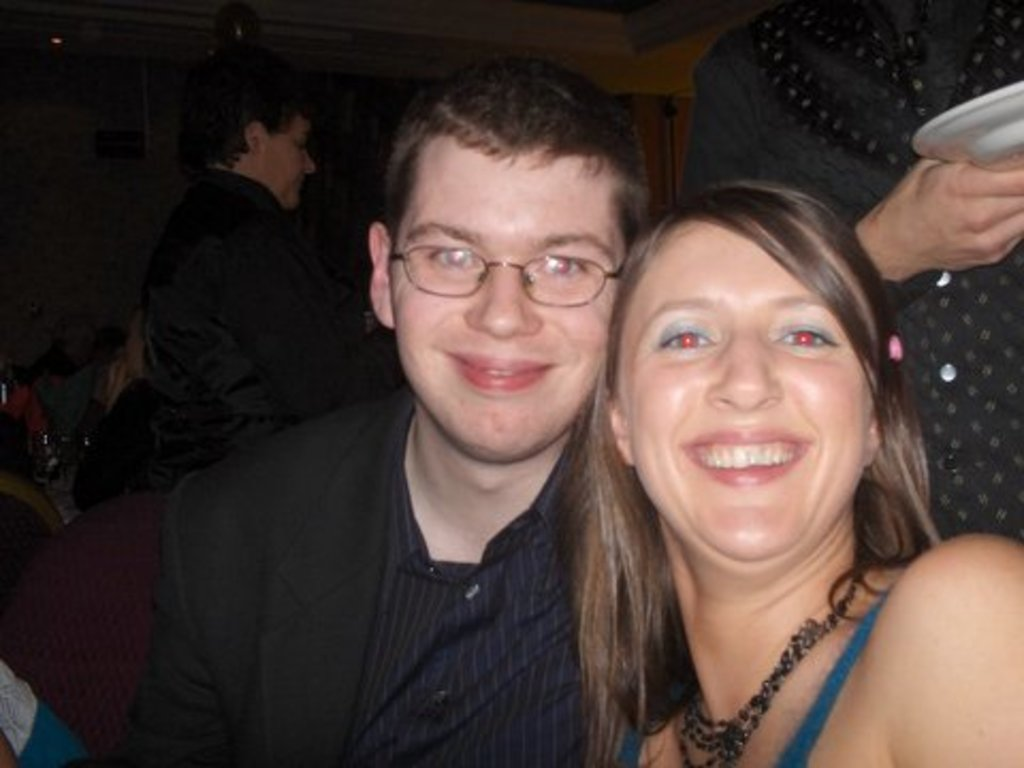face: (248, 101, 316, 202)
